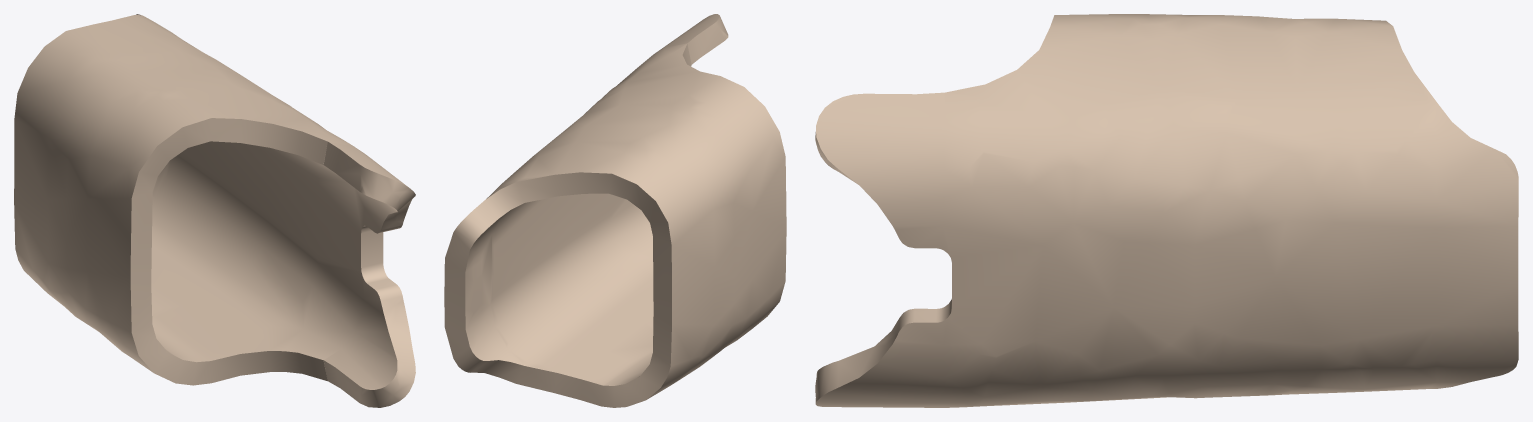
Rendered from l_hand_P_I_1.obj.
The picture shows the model from 3 angles, left to right: view 1: azimuth 30°, elevation 25°; view 2: azimuth 150°, elevation 25°; view 3: azimuth 270°, elevation 25°; orthographic projection. The views are drawn at different scales.
Bounding box in the file's own units: 19.67 × 23.24 × 42.84.
